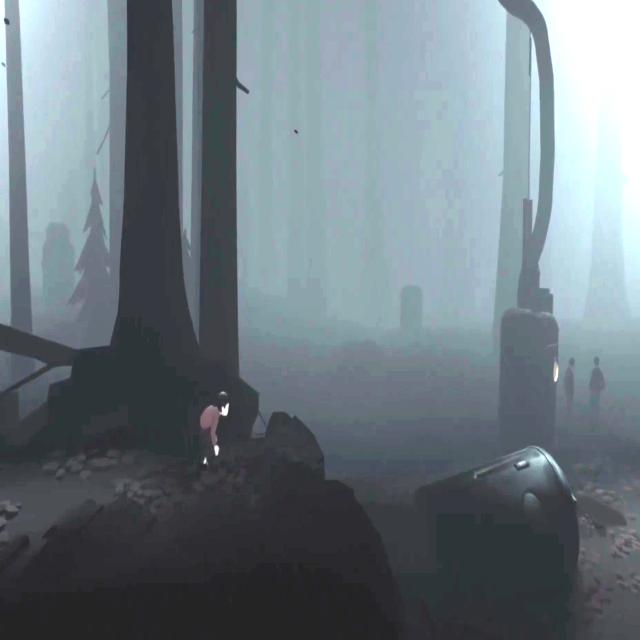boy: (199, 391, 228, 469)
human: (590, 356, 604, 431), (564, 356, 575, 424), (84, 488, 89, 489)
